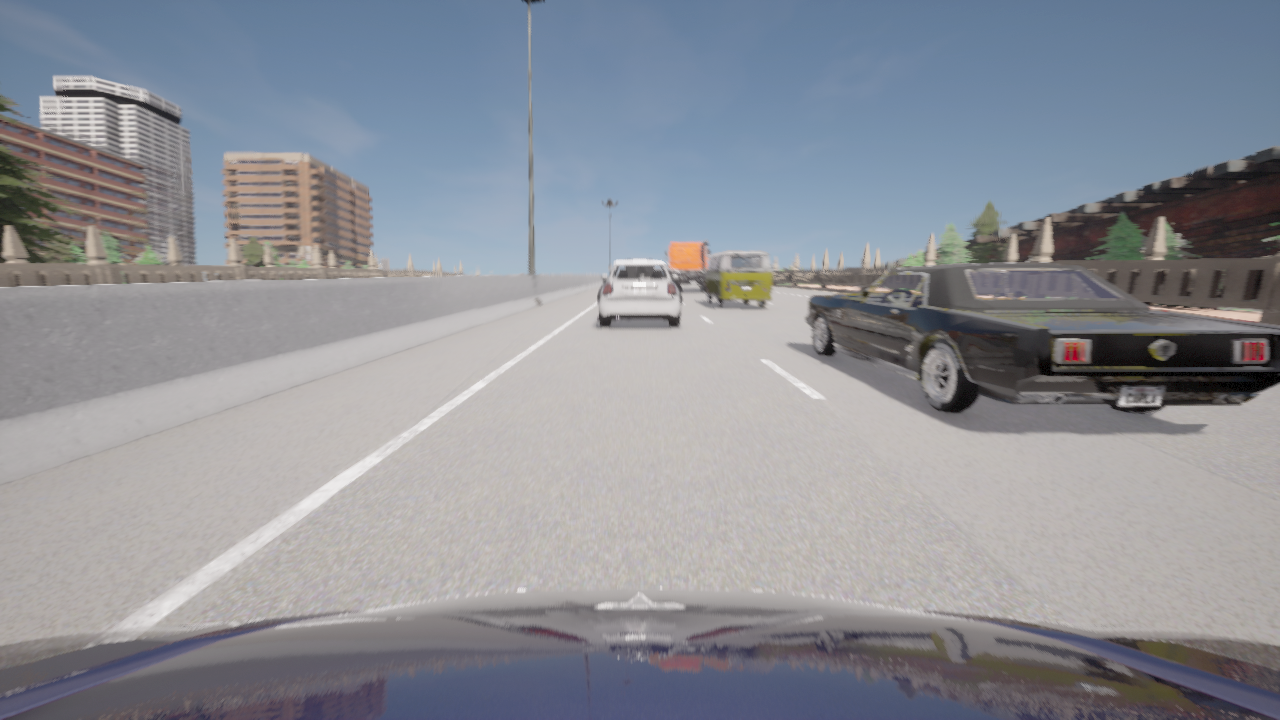cyclist: (0, 588, 1279, 719), (806, 263, 1279, 413), (598, 261, 681, 327), (704, 251, 771, 308), (664, 241, 709, 292), (627, 260, 652, 261)
pedestrian: (1027, 253, 1033, 261)
